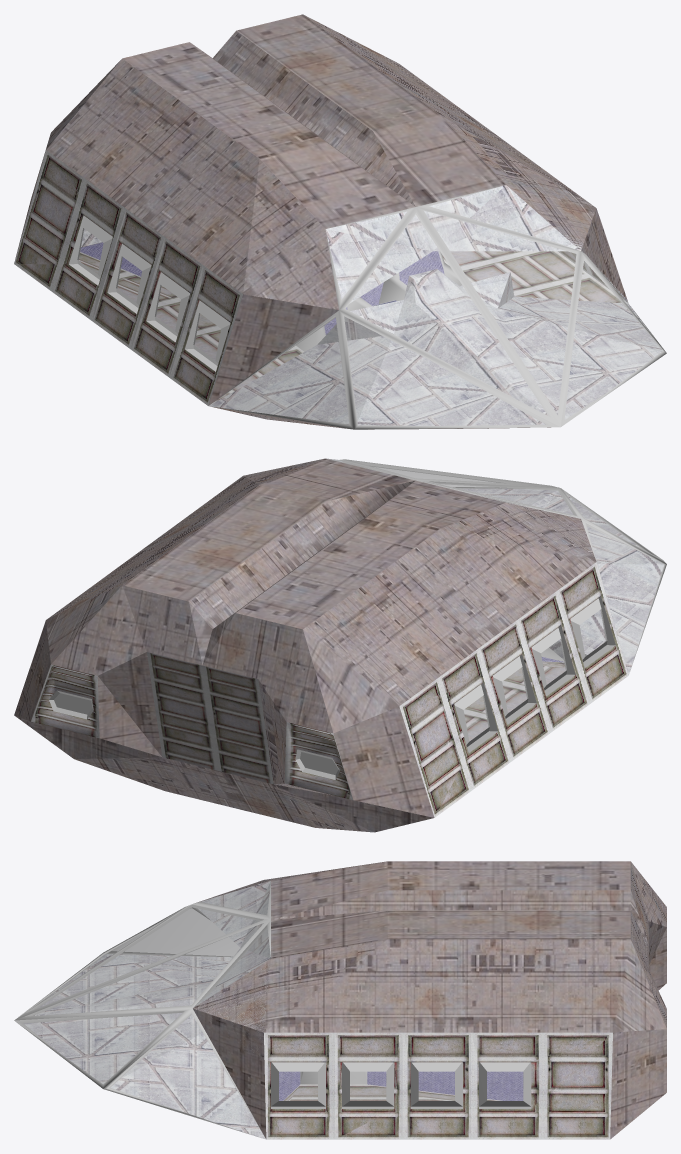
File: ENVO_Shuttle.obj
The picture shows the model from 3 angles, top to bottom: view 1: azimuth 30°, elevation 25°; view 2: azimuth 150°, elevation 25°; view 3: azimuth 270°, elevation 25°; orthographic projection. The views are drawn at different scales.
Visible parts, largest first — view 1: Shuttlemain; view 2: Shuttlemain, ShuttleDoor; view 3: Shuttlemain.
Part boxes in pixels (x1,y1,x2,y2): Shuttlemain: [14, 14, 666, 429]; Shuttlemain: [14, 458, 666, 832]; ShuttleDoor: [147, 652, 273, 784]; Shuttlemain: [14, 861, 666, 1139].
Size of what is drawn, in the model's own units: 603 by 305 by 916.
37 materials, 25 textured.
